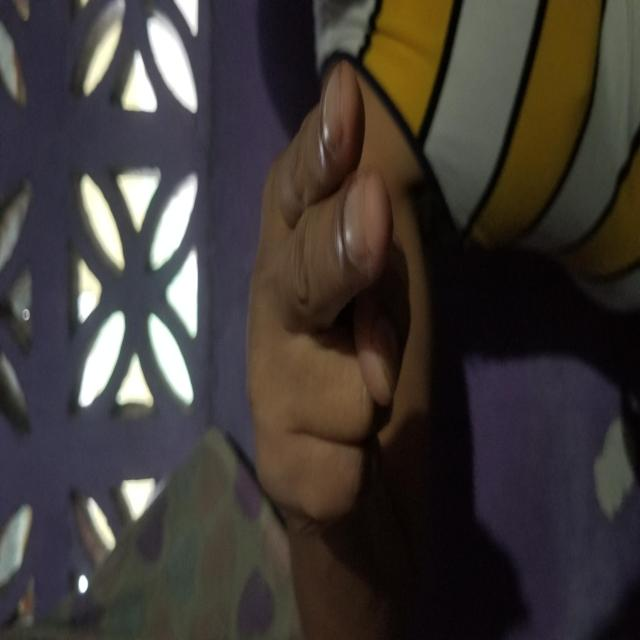N: (115, 242, 580, 413)
